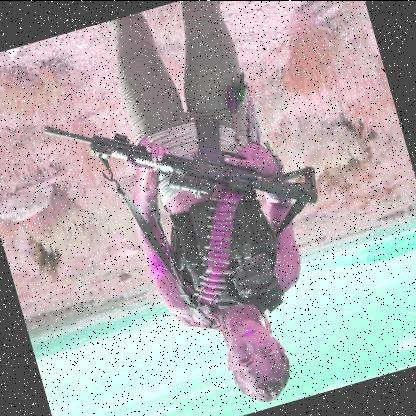rifle: (36, 50, 327, 273)
